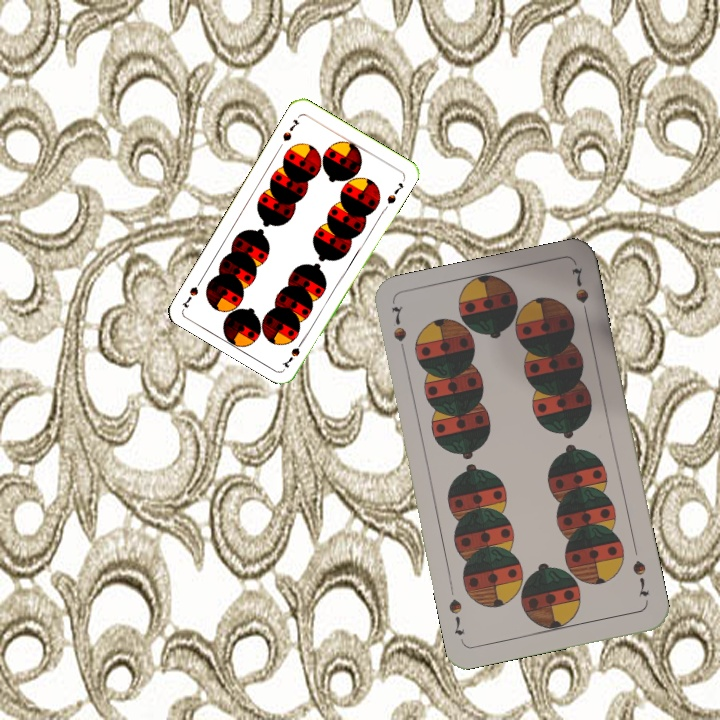S7: (387, 302, 409, 360), (280, 334, 308, 371), (628, 556, 652, 599), (279, 115, 302, 144)
